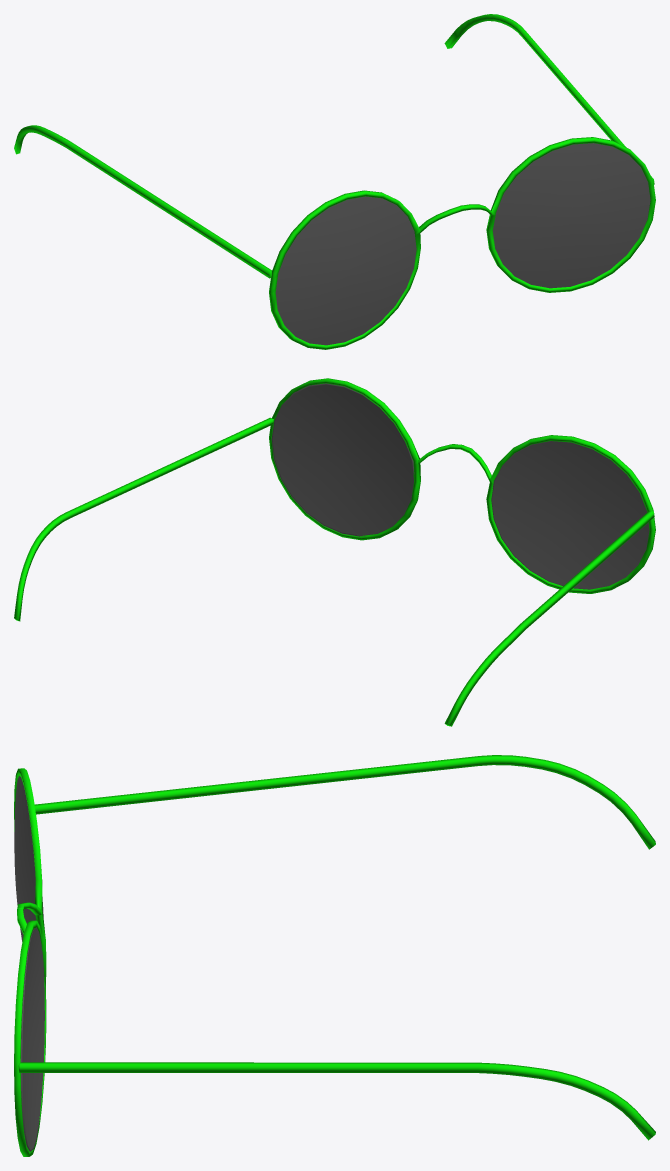
The model's file is glass2_green.glb.
The picture shows the model from 3 angles, top to bottom: view 1: azimuth 30°, elevation 25°; view 2: azimuth 150°, elevation 25°; view 3: azimuth 270°, elevation 25°; orthographic projection. The views are drawn at different scales.
Visible parts, largest first — view 1: glasses lenses.002, glasses lenses.001, glasses frame.001, glasses frame; view 2: glasses lenses.001, glasses lenses.002, glasses frame.001, glasses frame; view 3: glasses frame, glasses frame.001, glasses lenses.002, glasses lenses.001.
Part boxes in pixels (<box>): glasses lenses.002: <box>492,143,650,288</box>; glasses lenses.001: <box>275,196,416,345</box>; glasses frame.001: <box>14,125,464,349</box>; glasses frame: <box>444,14,655,292</box>; glasses lenses.001: <box>491,441,649,589</box>; glasses lenses.002: <box>271,383,414,536</box>; glasses frame.001: <box>444,435,655,726</box>; glasses frame: <box>14,378,463,621</box>; glasses frame: <box>14,907,655,1156</box>; glasses frame.001: <box>14,755,655,984</box>; glasses lenses.002: <box>20,927,44,1151</box>; glasses lenses.001: <box>14,776,43,941</box>.
Bounding box in the file's own units: 0.152 × 0.0478 × 0.1318.
